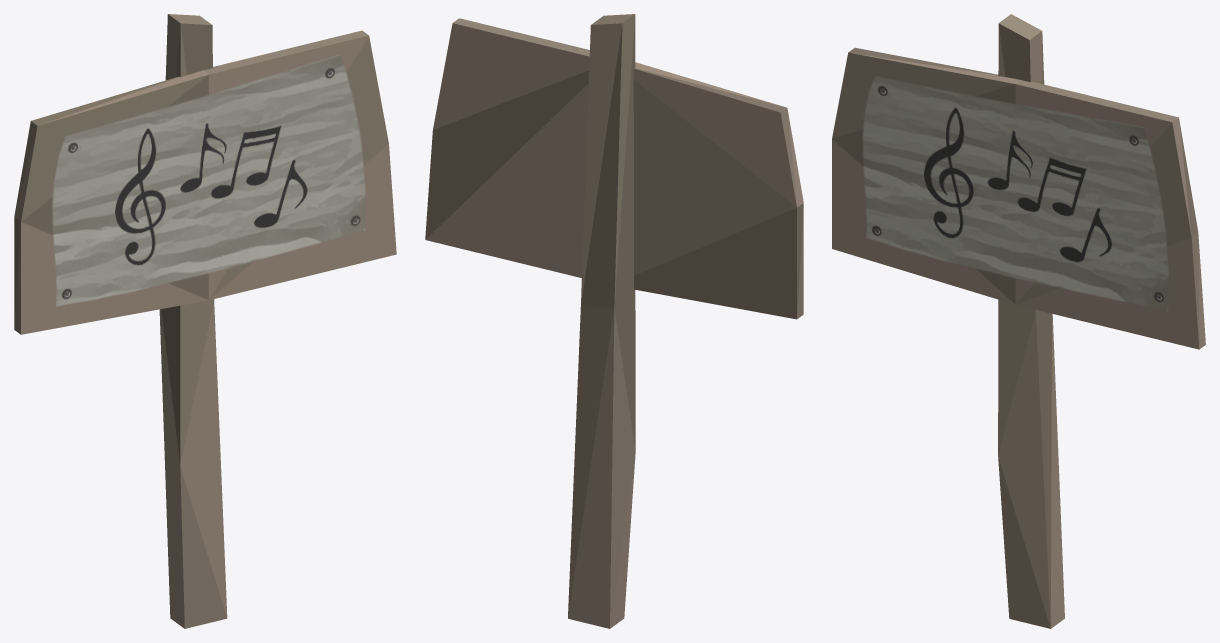
Rendered from Cartel_sonidos.FBX.
The picture shows the model from 3 angles, left to right: view 1: azimuth 30°, elevation 25°; view 2: azimuth 150°, elevation 25°; view 3: azimuth 330°, elevation 25°; orthographic projection. The views are drawn at different scales.
Parts seen in each view (by area): view 1: Poste001; view 2: Poste001; view 3: Poste001.
Part boxes in pixels (x1,y1,x2,y2): Poste001: (14, 14, 396, 628); Poste001: (425, 14, 803, 628); Poste001: (832, 14, 1205, 628).
Size of the model in its own units: 87.02 by 135 by 10.74.
Materials: 1 (1 with a texture image).
